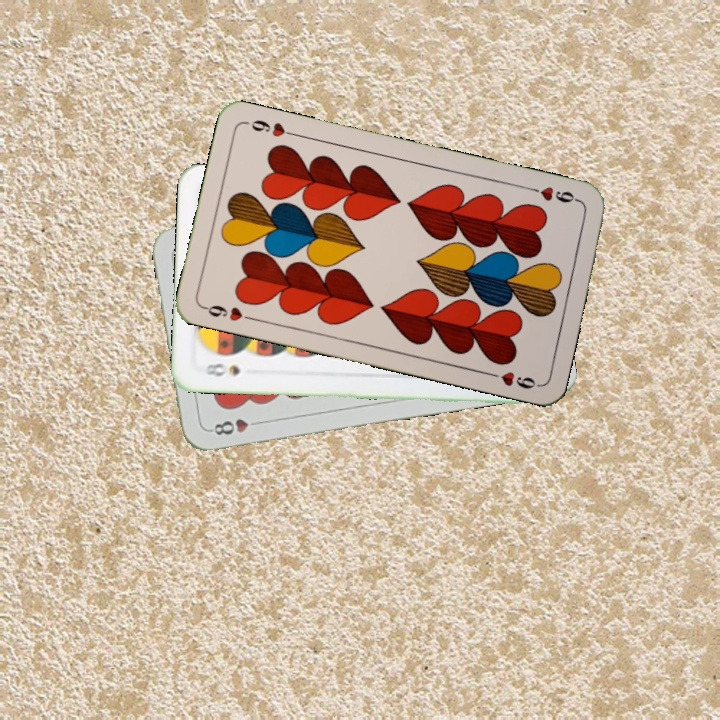H8: (205, 414, 264, 438)
H9: (524, 182, 583, 206), (199, 301, 257, 324)
S8: (201, 359, 243, 379)
